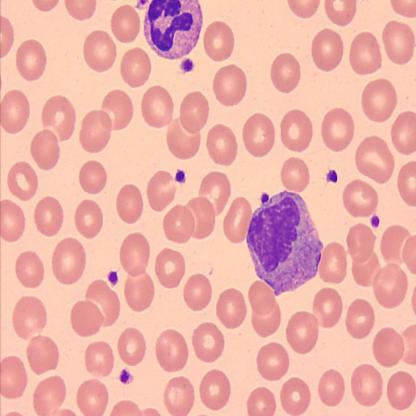Monocyte: (245, 186, 326, 299)
